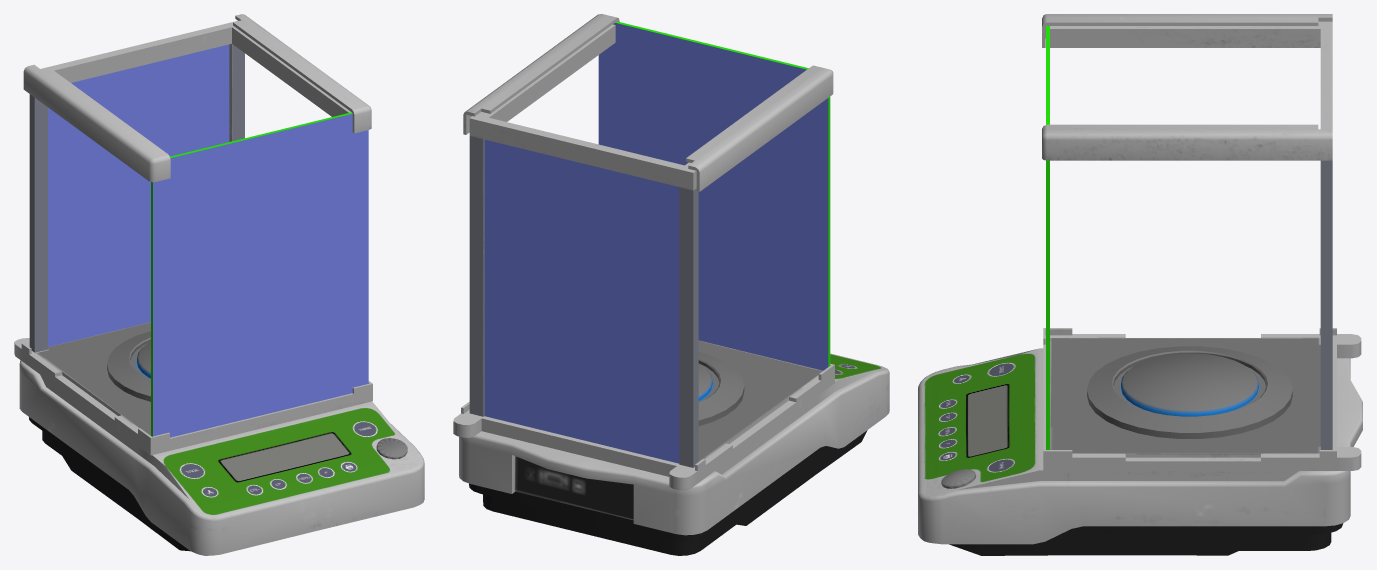
File: Balance.fbx
3 views of the same model, side by side, from view 1: azimuth 30°, elevation 25°; view 2: azimuth 150°, elevation 25°; view 3: azimuth 270°, elevation 25° (orthographic). The views are drawn at different scales.
Visible parts, largest first — view 1: model_0; view 2: model_0; view 3: model_0.
Part boxes in pixels (x1,y1,x2,y2): model_0: (14, 14, 424, 555); model_0: (453, 14, 889, 555); model_0: (918, 14, 1362, 555).
Size of the model in its own units: 28.44 by 43.62 by 41.71.
Materials: 4 (1 with a texture image).
